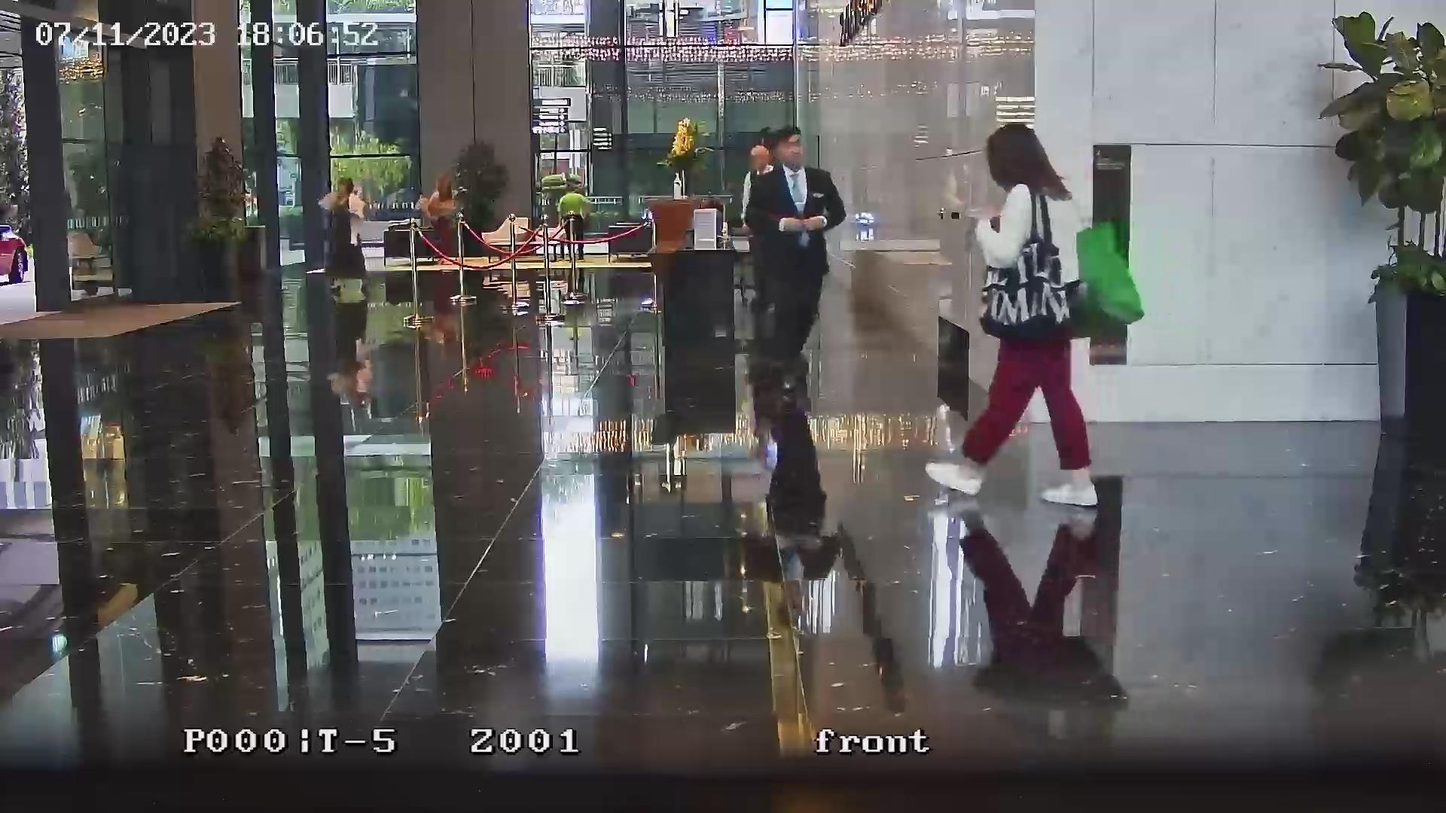person: (926, 124, 1099, 508), (743, 123, 846, 392), (741, 145, 783, 312), (318, 178, 368, 297), (416, 169, 463, 238), (559, 183, 593, 261)
